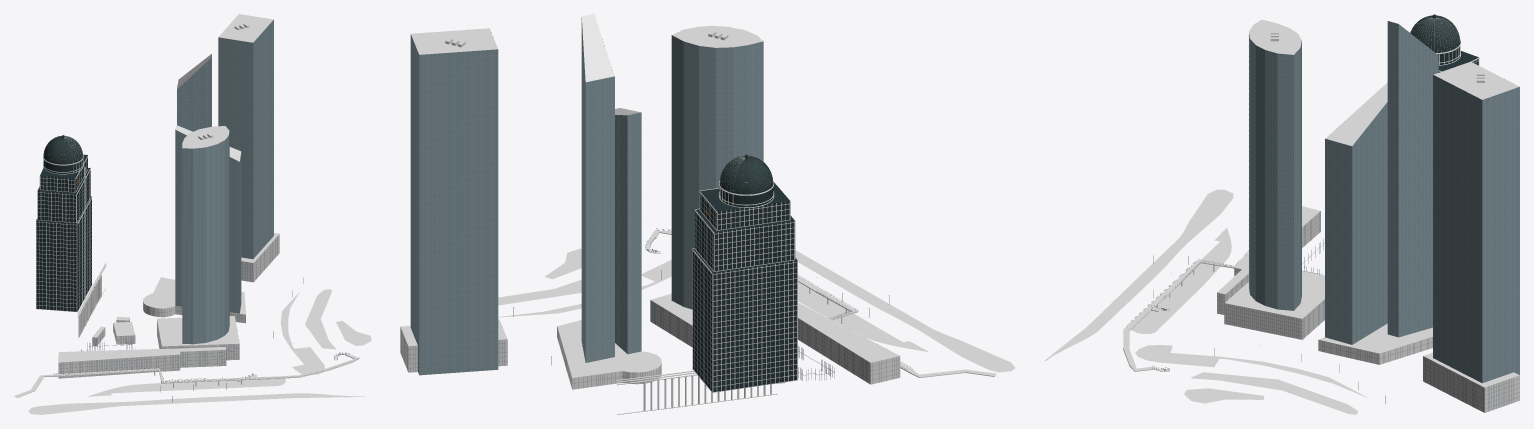
3 views of the same model, side by side, from view 1: azimuth 30°, elevation 25°; view 2: azimuth 150°, elevation 25°; view 3: azimuth 270°, elevation 25° (orthographic). The views are drawn at different scales.
Visible parts, largest first — view 1: 1_-1_v02 中性蓝灰幕墙, 1_-1_v02 铝合金幕墙框, 1_-1_v04 平安深色窗, 1_-1_v02 深灰屋面, 1_-1_v02 草地, 1_-1_v04 平安玫瑰白麻石, 1_-1_v02 米白石材, 1_-1_步行桥面 · 7m, 1_-1_v04 穹顶深灰铜板, 1_-1_桥栏杆银灰; view 2: 1_-1_v02 中性蓝灰幕墙, 1_-1_v02 铝合金幕墙框, 1_-1_v04 平安深色窗, 1_-1_v04 平安玫瑰白麻石, 1_-1_v02 深灰屋面, 1_-1_v02 草地, 1_-1_v02 米白石材, 1_-1_v04 穹顶深灰铜板, 1_-1_步行桥面 · 7m; view 3: 1_-1_v02 中性蓝灰幕墙, 1_-1_v02 铝合金幕墙框, 1_-1_v02 草地, 1_-1_v02 深灰屋面, 1_-1_v02 米白石材, 1_-1_v04 穹顶深灰铜板, 1_-1_步行桥面 · 7m, 1_-1_v04 平安深色窗.
Part boxes in pixels (x1,y1,x2,y2): 1_-1_v02 中性蓝灰幕墙: (175, 20, 273, 344); 1_-1_v02 铝合金幕墙框: (48, 21, 279, 378); 1_-1_v04 平安深色窗: (36, 154, 91, 311); 1_-1_v02 深灰屋面: (58, 14, 279, 362); 1_-1_v02 草地: (28, 289, 371, 414); 1_-1_v04 平安玫瑰白麻石: (36, 154, 106, 338); 1_-1_v02 米白石材: (58, 234, 279, 378); 1_-1_步行桥面 · 7m: (14, 354, 359, 397); 1_-1_v04 穹顶深灰铜板: (43, 135, 82, 164); 1_-1_桥栏杆银灰: (53, 278, 357, 402); 1_-1_v02 中性蓝灰幕墙: (410, 17, 763, 375); 1_-1_v02 铝合金幕墙框: (401, 14, 899, 389); 1_-1_v04 平安深色窗: (693, 182, 797, 392); 1_-1_v04 平安玫瑰白麻石: (617, 180, 797, 414); 1_-1_v02 深灰屋面: (401, 14, 899, 377); 1_-1_v02 草地: (498, 248, 1015, 372); 1_-1_v02 米白石材: (400, 300, 900, 389); 1_-1_v04 穹顶深灰铜板: (719, 154, 773, 194); 1_-1_步行桥面 · 7m: (649, 230, 996, 377); 1_-1_v02 中性蓝灰幕墙: (1249, 21, 1519, 382); 1_-1_v02 铝合金幕墙框: (1217, 15, 1519, 412); 1_-1_v02 草地: (1044, 189, 1369, 414); 1_-1_v02 深灰屋面: (1217, 19, 1519, 387); 1_-1_v02 米白石材: (1217, 211, 1519, 412); 1_-1_v04 穹顶深灰铜板: (1410, 14, 1460, 52); 1_-1_步行桥面 · 7m: (1123, 252, 1248, 371); 1_-1_v04 平安深色窗: (1438, 43, 1478, 72).
Bounding box in the file's own units: 394 × 265 × 351.
